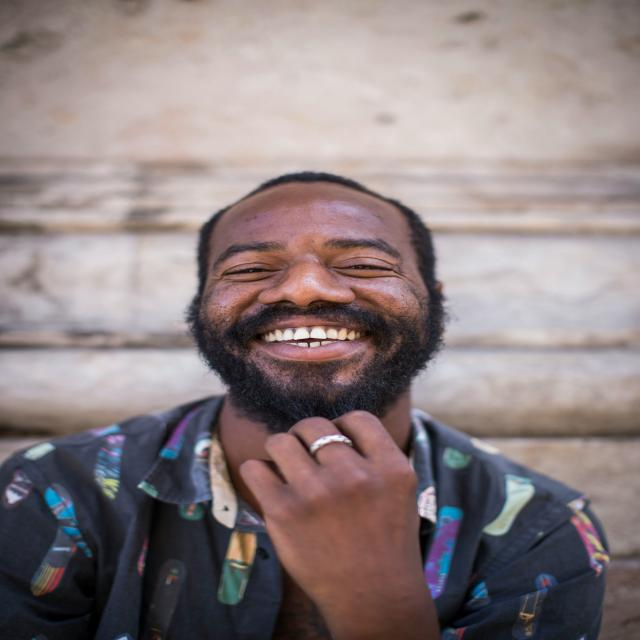human: (0, 166, 614, 640)
